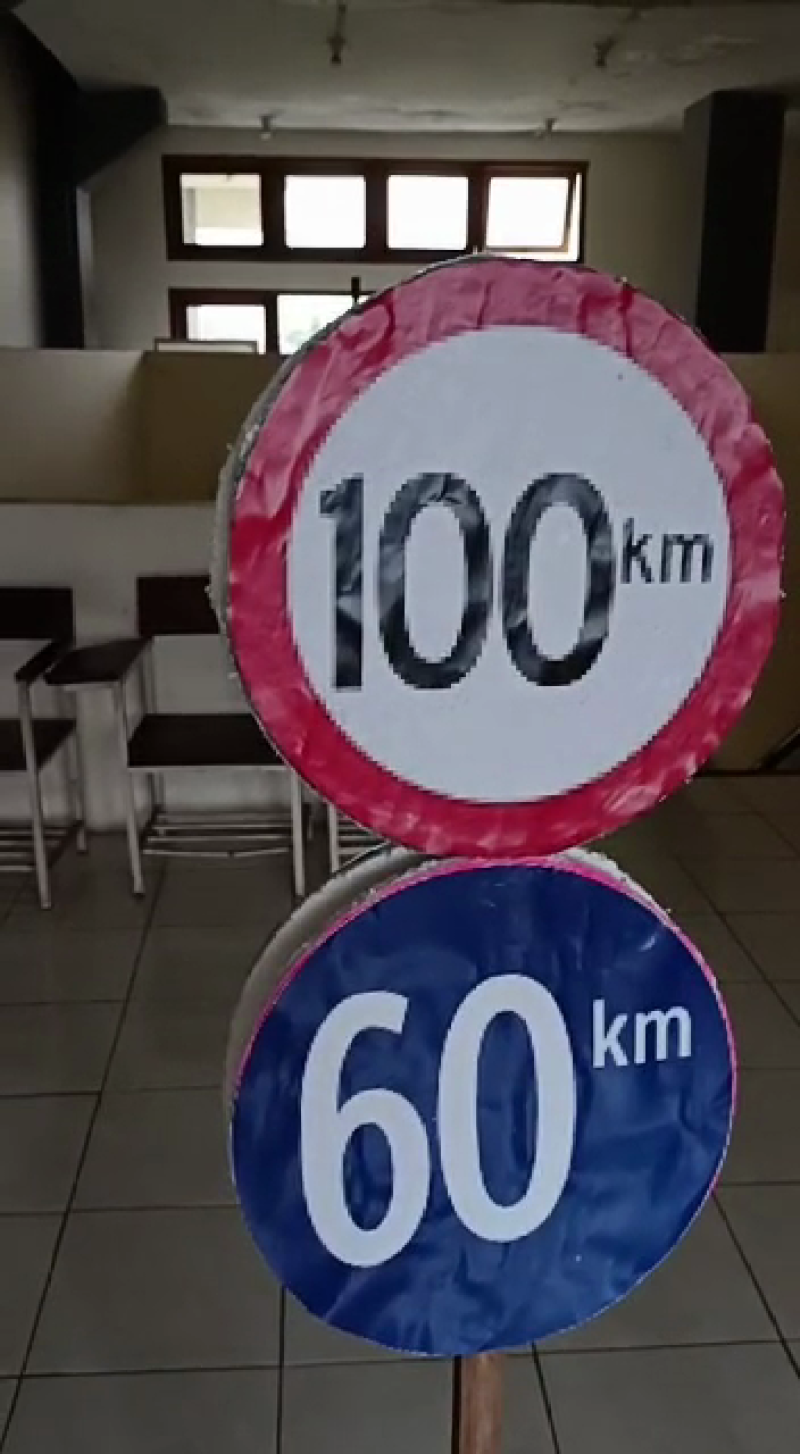batas maksimal 100kmperjam minimal 60kmperjam: (204, 247, 800, 1373)
